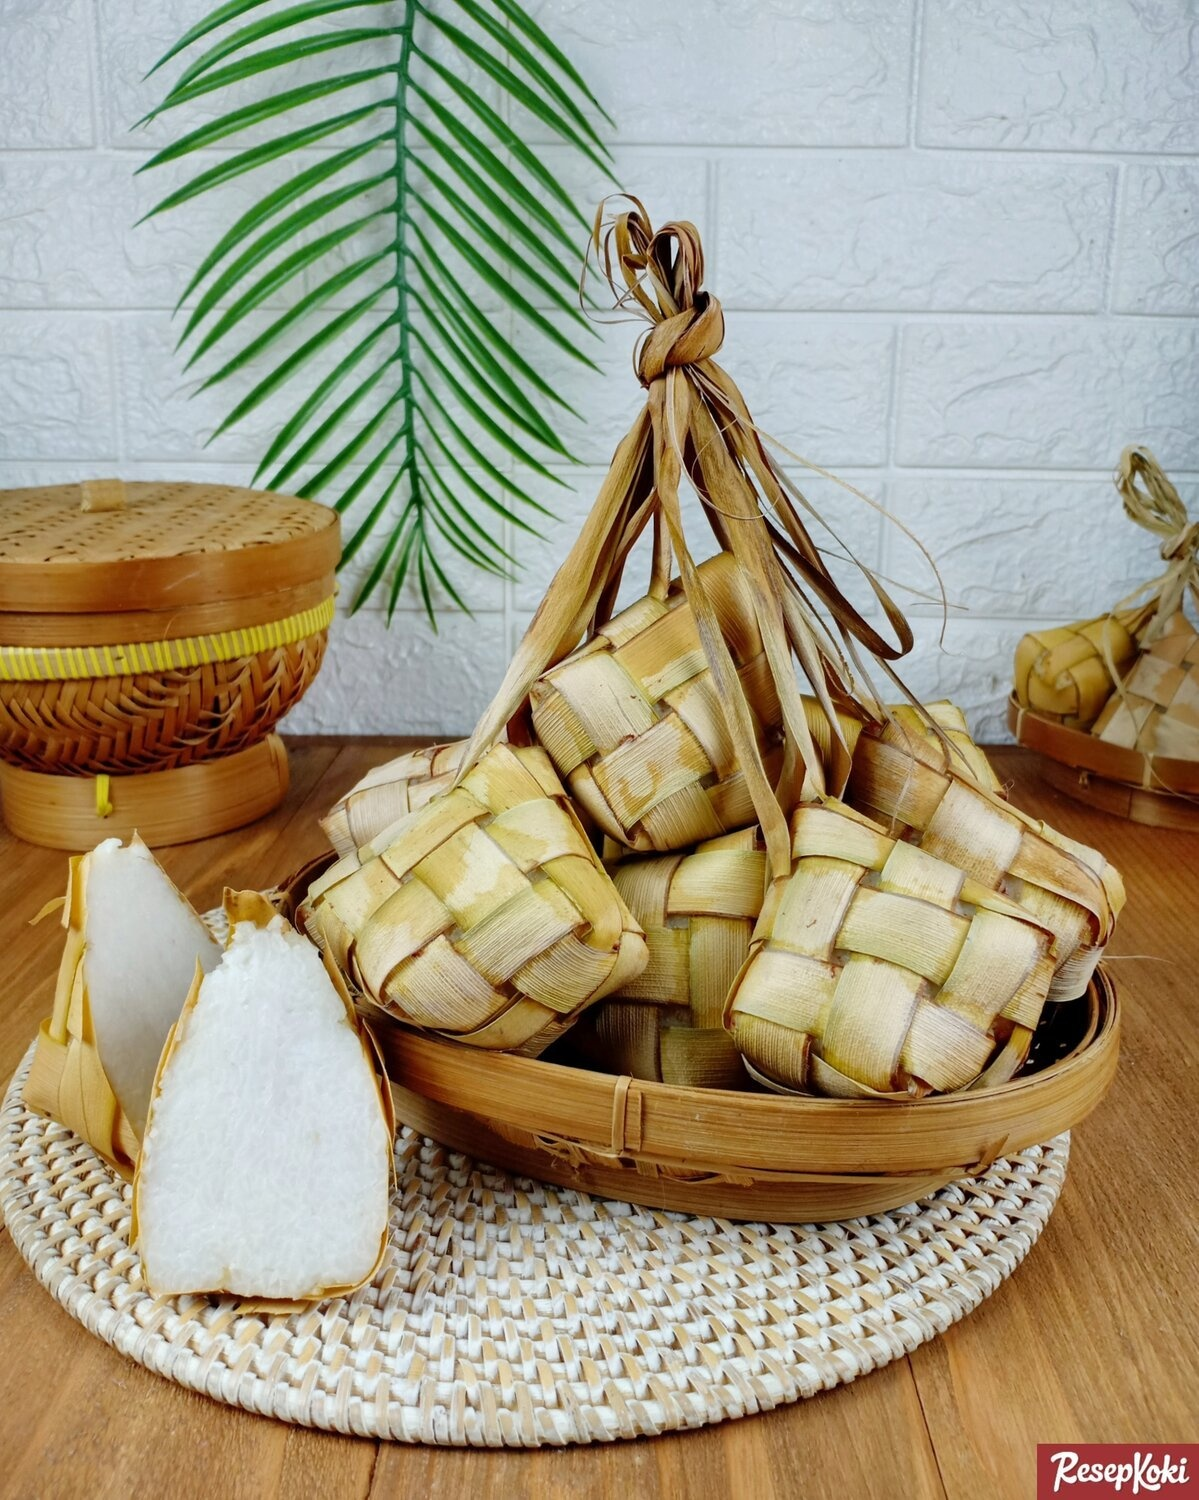ketupat: (311, 743, 650, 1061), (726, 808, 1055, 1105)
